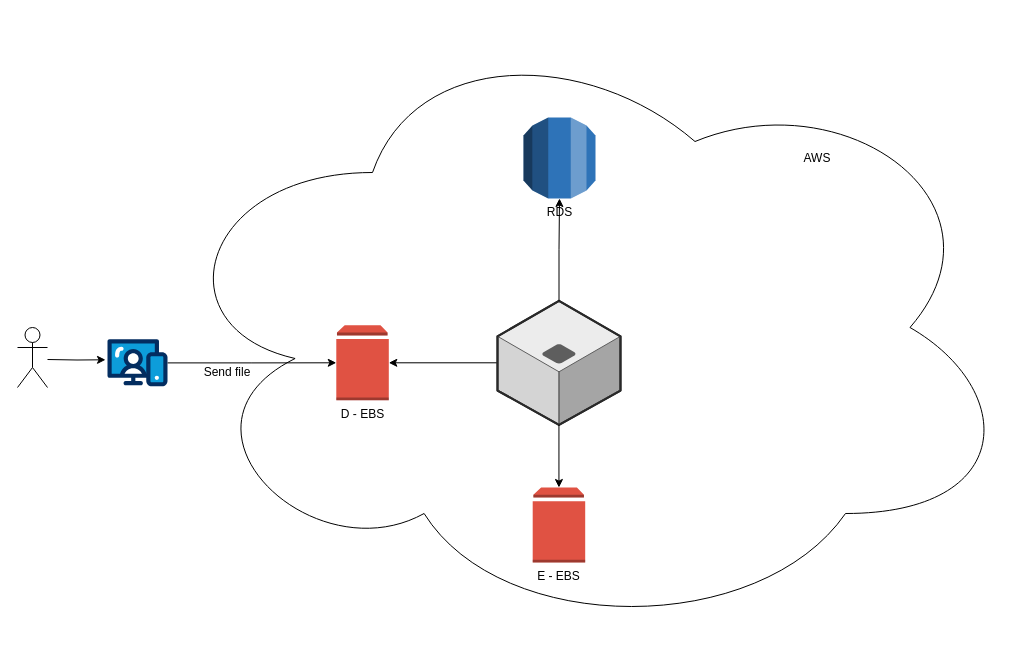
The diagram is 1035 pixels wide and 655 high, and some of its shapes have lost their labels. Here are the shapes that lost their labels. From the top down, the box of each, then its label:
(16, 326, 48, 388): Actor
(496, 300, 620, 425): EC2
